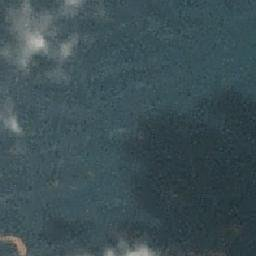cloud: (1, 1, 82, 91), (99, 233, 160, 256), (1, 101, 25, 136)
debris: (1, 233, 30, 256)
